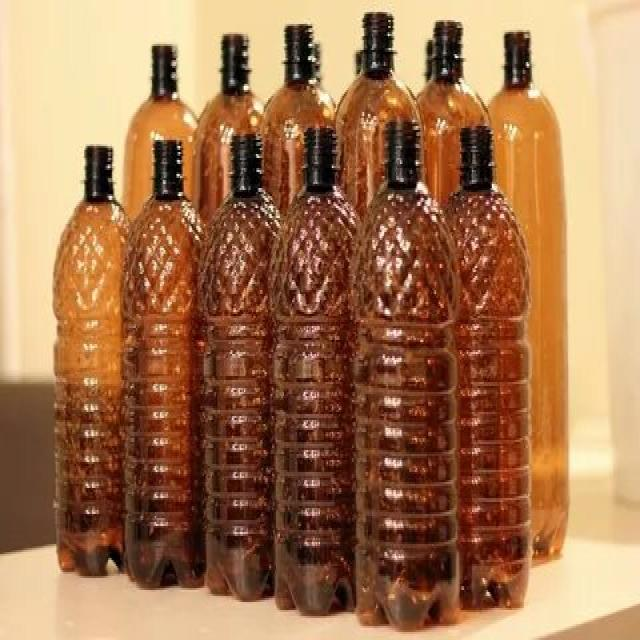brown: (351, 125, 460, 627), (271, 130, 356, 617), (491, 32, 569, 560), (450, 126, 529, 612), (124, 142, 200, 588), (199, 137, 270, 598), (52, 146, 127, 576), (334, 13, 426, 177)
